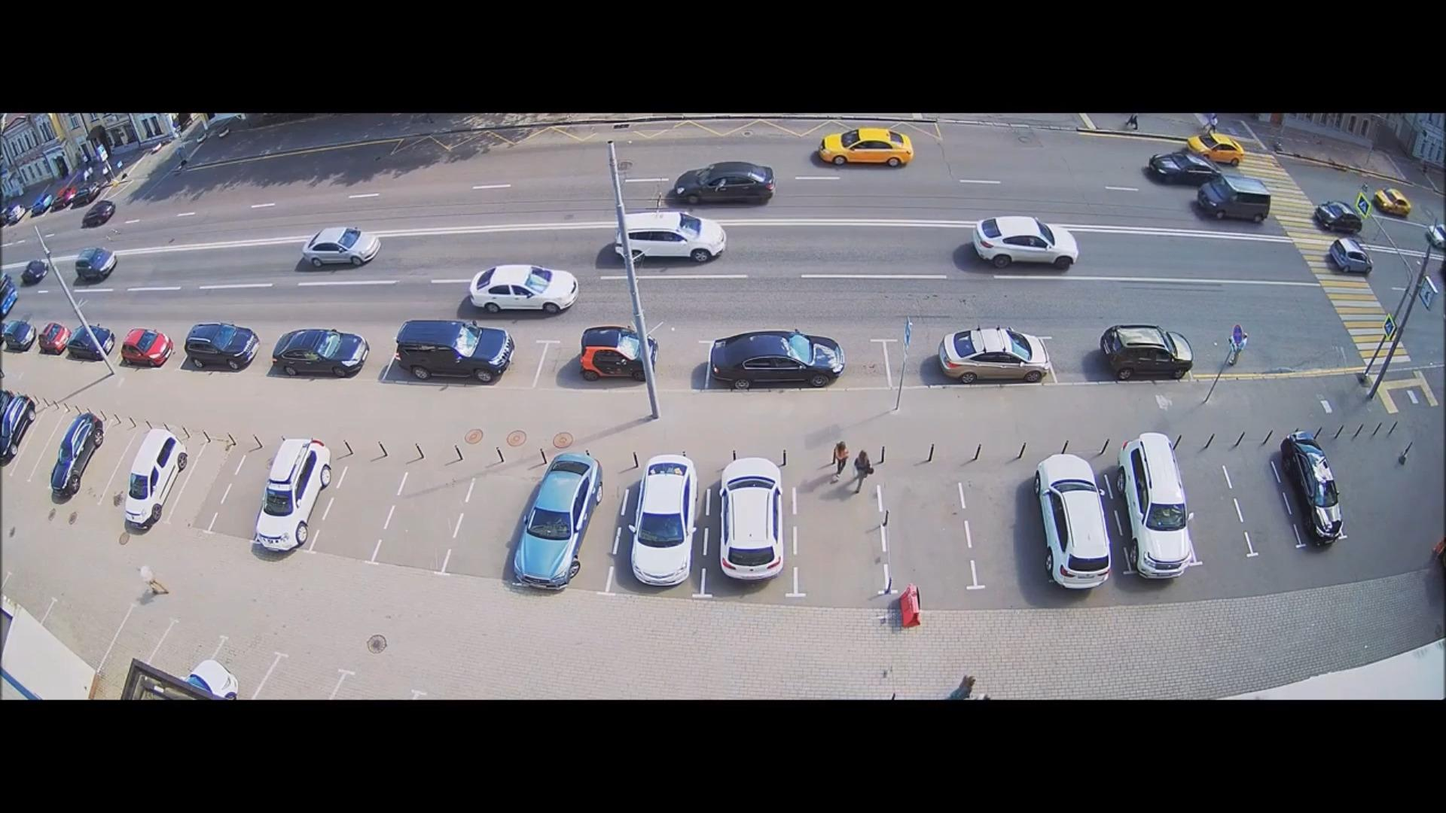free: (810, 468, 860, 591), (914, 481, 951, 579), (1202, 459, 1240, 554), (418, 502, 455, 529), (344, 492, 381, 518), (189, 464, 226, 490)
occupied: (511, 451, 604, 589), (1116, 433, 1195, 576), (1034, 454, 1111, 589), (628, 454, 698, 585), (254, 438, 334, 551), (716, 456, 786, 583), (392, 319, 515, 384), (710, 327, 838, 389), (1279, 431, 1346, 543), (123, 427, 190, 528), (937, 326, 1050, 385), (1101, 323, 1195, 379), (270, 327, 369, 378), (49, 416, 106, 500), (577, 325, 656, 382), (181, 321, 257, 370), (0, 391, 37, 462), (118, 327, 173, 368), (67, 324, 118, 362), (1, 319, 37, 352), (37, 322, 73, 355)
